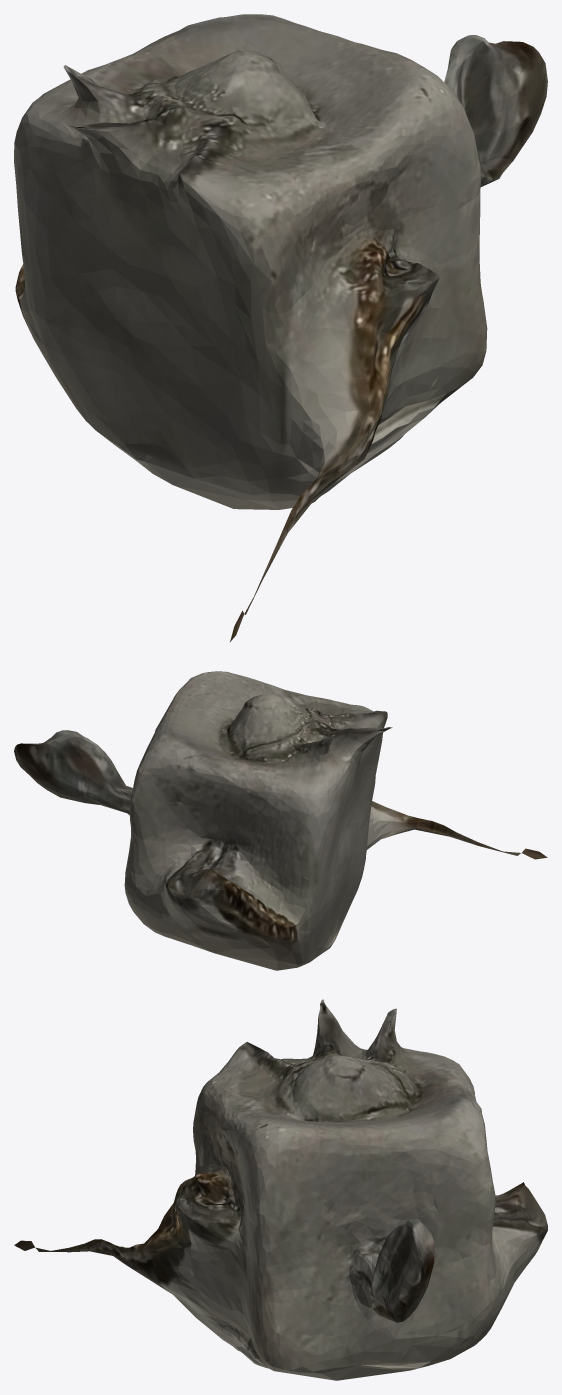
File: DeeMainRATE.glb
3 renders of one model, top to bottom at view 1: azimuth 30°, elevation 25°; view 2: azimuth 150°, elevation 25°; view 3: azimuth 270°, elevation 25°, orthographic. The views are drawn at different scales.
Size of the model in its own units: 0.2647 by 0.1765 by 0.2788.
1 material, 1 textured.
